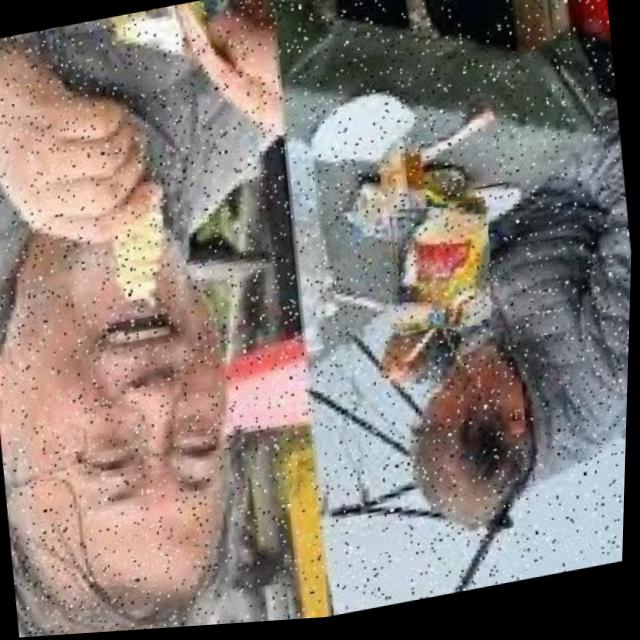Miscellaneous: (381, 201, 500, 344)
